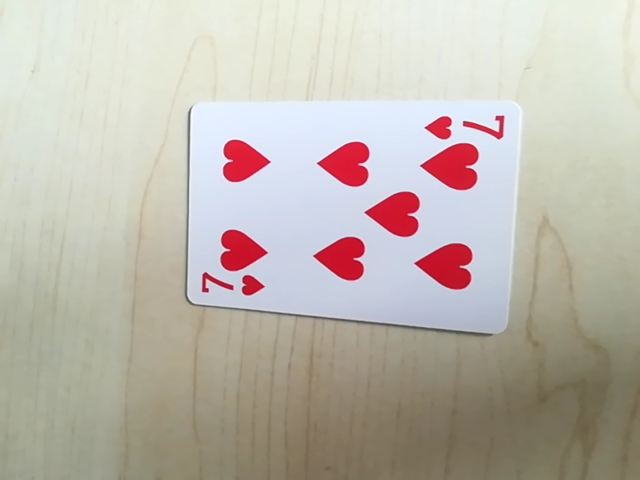hx 7: (420, 106, 509, 144), (196, 270, 266, 302)
